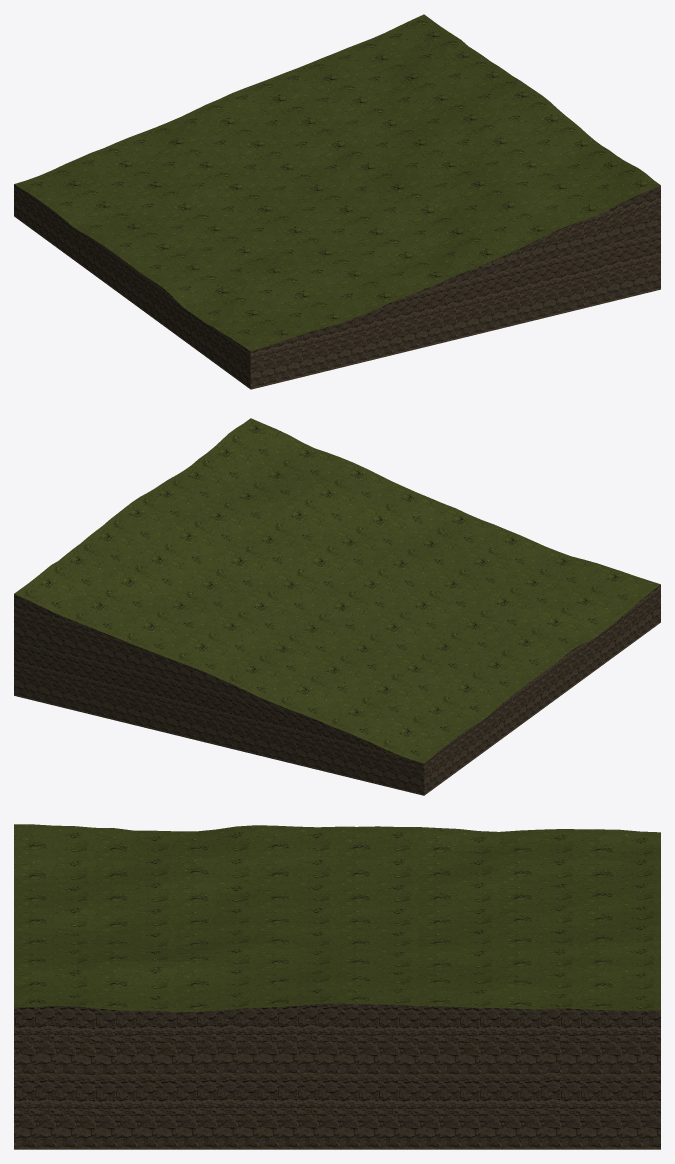
The model's file is hill_slope_01.glb.
The picture shows the model from 3 angles, top to bottom: view 1: azimuth 30°, elevation 25°; view 2: azimuth 150°, elevation 25°; view 3: azimuth 270°, elevation 25°; orthographic projection. The views are drawn at different scales.
Parts seen in each view (by area): view 1: hill_slope_01; view 2: hill_slope_01; view 3: hill_slope_01.
Boxes of the visible parts, bbox=[...] form: hill_slope_01: bbox=[14, 14, 660, 389]; hill_slope_01: bbox=[14, 418, 660, 795]; hill_slope_01: bbox=[14, 824, 660, 1149].
Size of the model in its own units: 16 by 3.99 by 16.
Materials: 2 (2 with a texture image).
